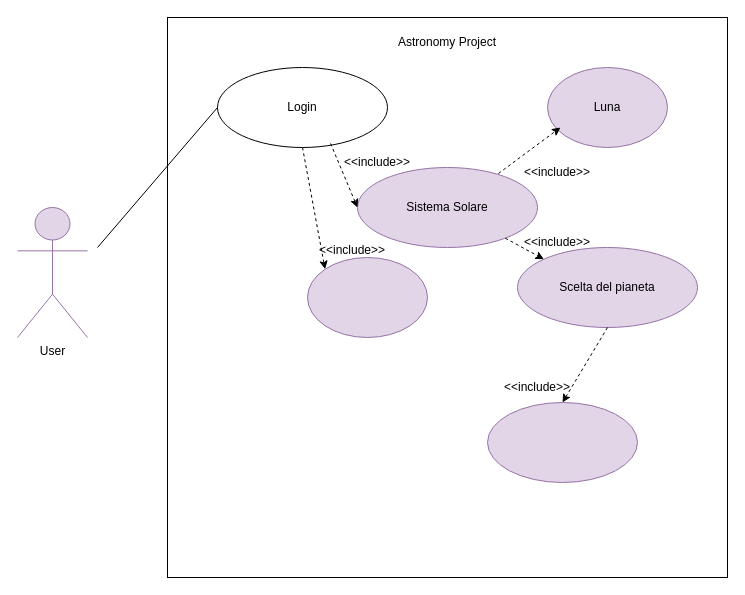
Some shapes in this 745 by 595 pixel diagram are drawn without their labels. Here are the shapes that lost their labels. From the top down, the centre of each, then its label:
the point at 367,297: Curiosità del giorno
the point at 562,442: Informazione pianeta
